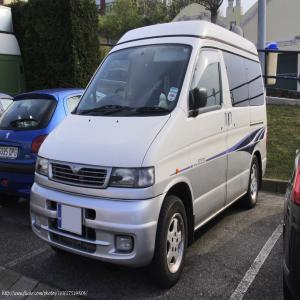Vehicle-registration-plate: (57, 205, 83, 235), (1, 146, 19, 159)
